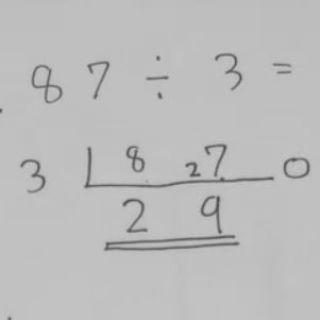.: (152, 87, 169, 102), (152, 51, 165, 65)
0: (281, 155, 311, 180)
2: (120, 195, 151, 234), (182, 159, 203, 179)
3: (212, 50, 245, 92), (18, 157, 47, 194)
7: (85, 57, 111, 102), (203, 142, 229, 178)
8: (30, 63, 65, 104), (125, 143, 147, 175)
9: (199, 194, 224, 234)
